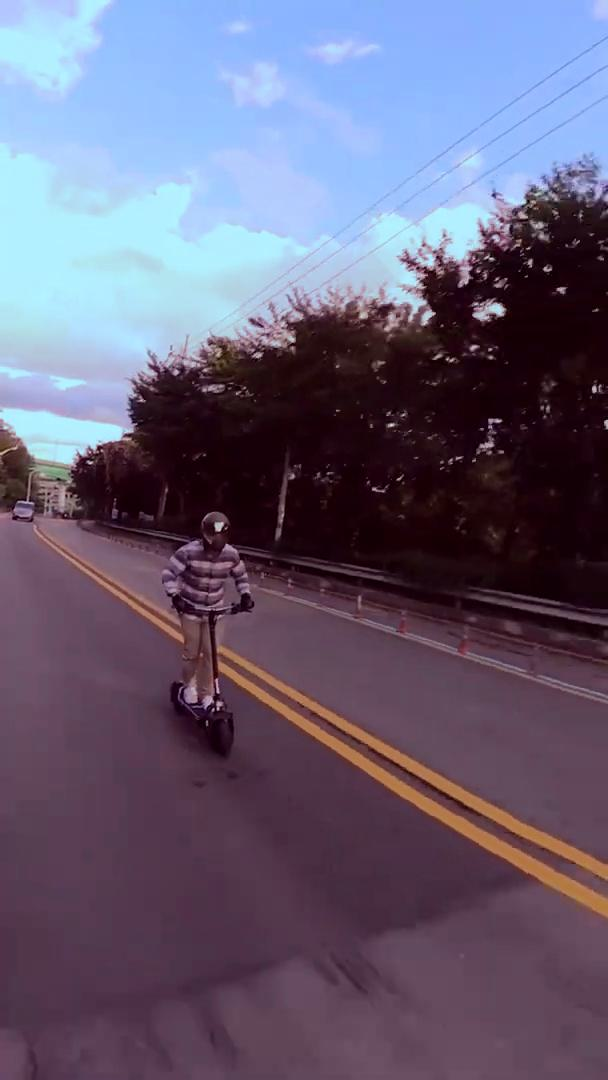helmet: (158, 504, 258, 755)
